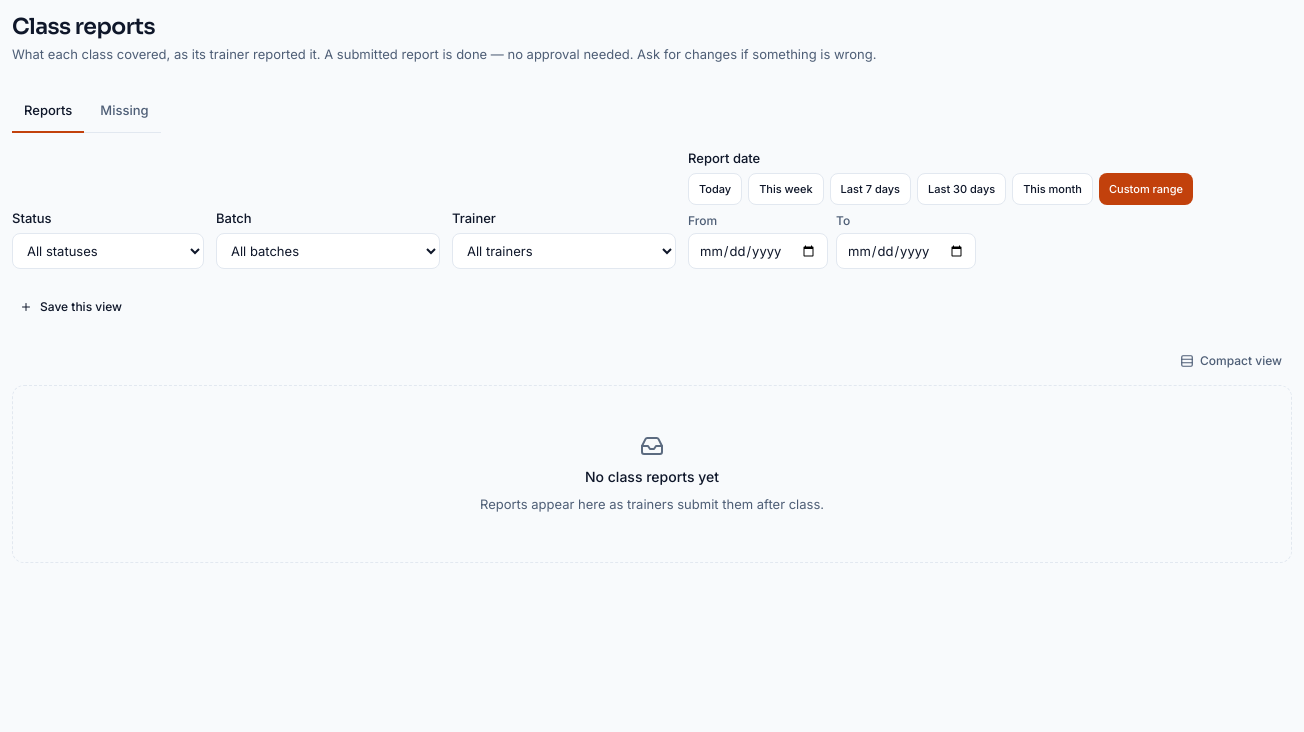
Test: DsrQueue reading and missing reports › lists classes without a submitted report on the Missing tab
Click the tab "Missing": (124, 110) top-left (88, 88), bottom-right (161, 132)
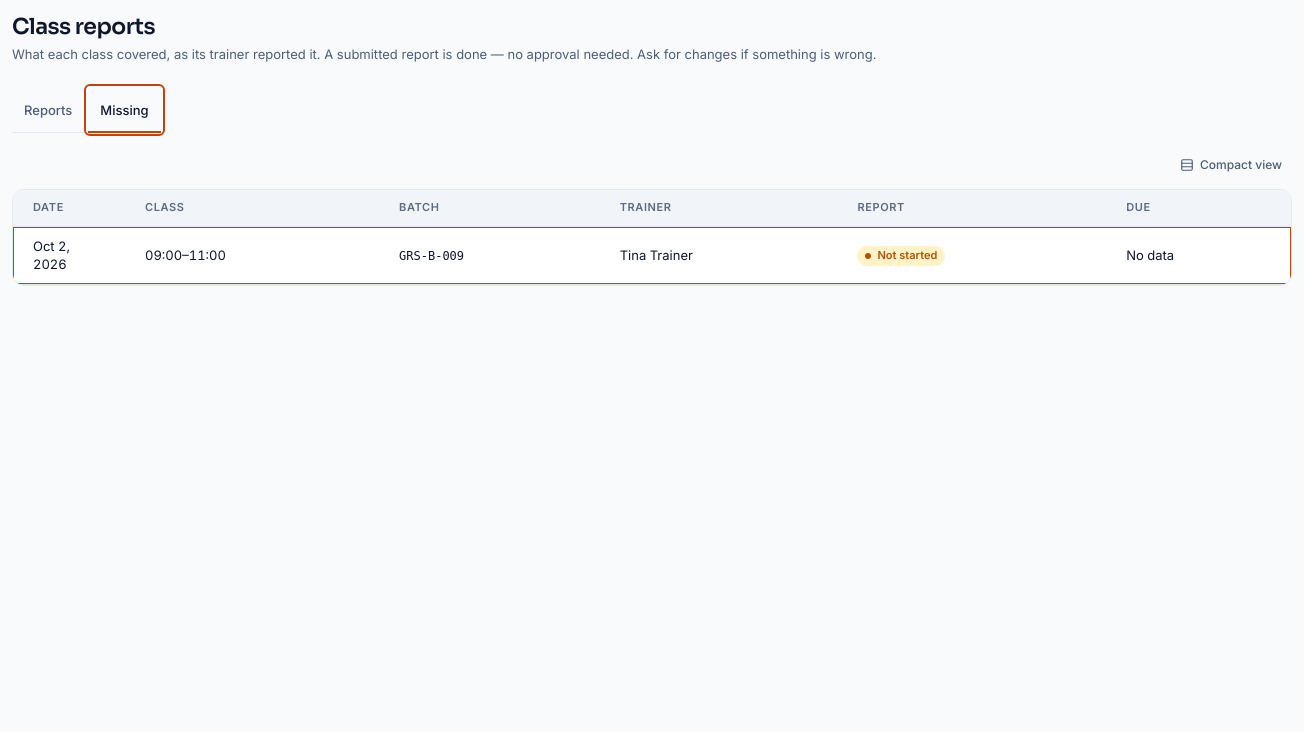
Check: the link "GRS-B-009" is shown, box top-left (399, 249), bottom-right (464, 263)
Check: the text "Not started" is shown, box top-left (857, 246), bottom-right (945, 266)
